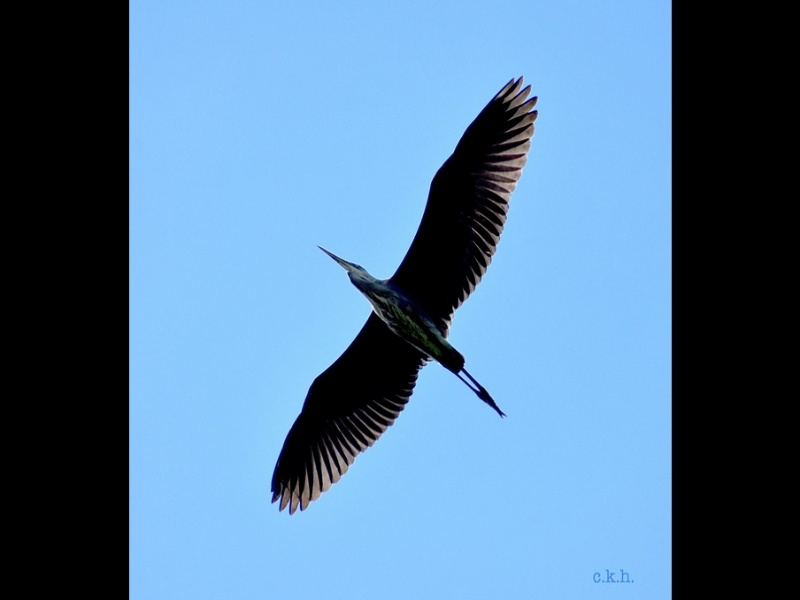heron: (271, 70, 543, 517)
